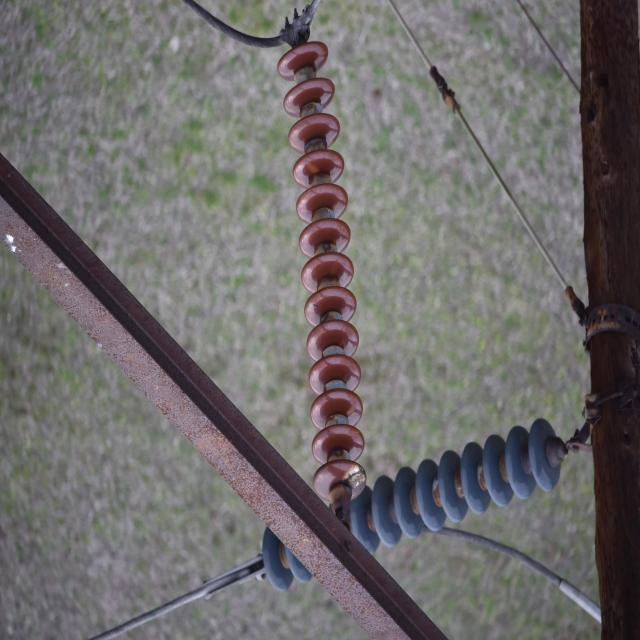insulator: (262, 418, 560, 592), (277, 40, 364, 504)
